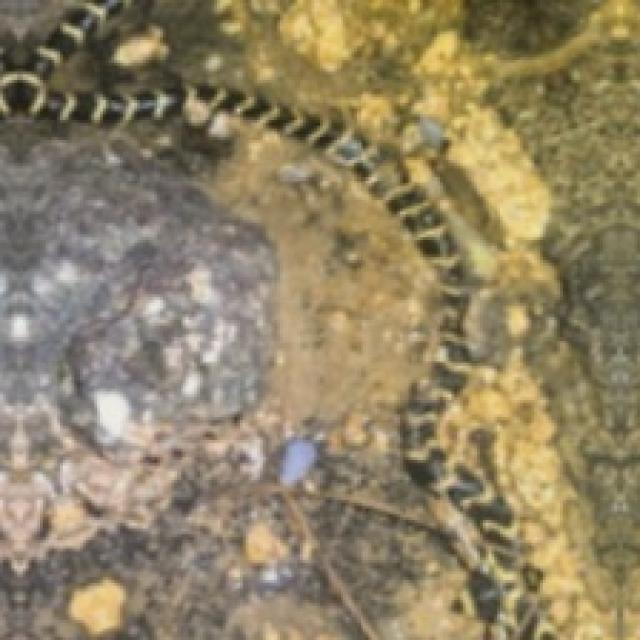king cobra: (0, 0, 591, 637)
